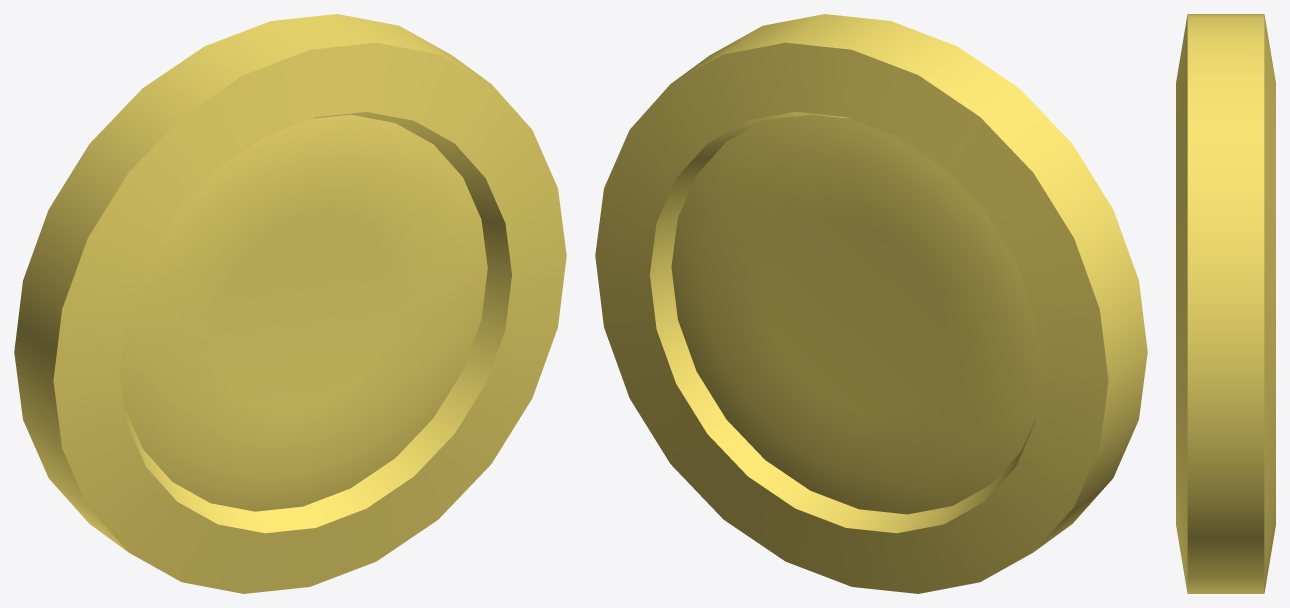
The model's file is coin.glb.
3 views of the same model, side by side, from view 1: azimuth 30°, elevation 25°; view 2: azimuth 150°, elevation 25°; view 3: azimuth 270°, elevation 25° (orthographic).
Visible parts, largest first — view 1: gold; view 2: gold; view 3: gold.
Boxes of the visible parts, left/top/right/bottom form: gold: left=14, top=14, right=566, bottom=593; gold: left=595, top=14, right=1147, bottom=593; gold: left=1176, top=14, right=1275, bottom=593.
Size of the model in its own units: 0.2836 by 0.2836 by 0.0486.
